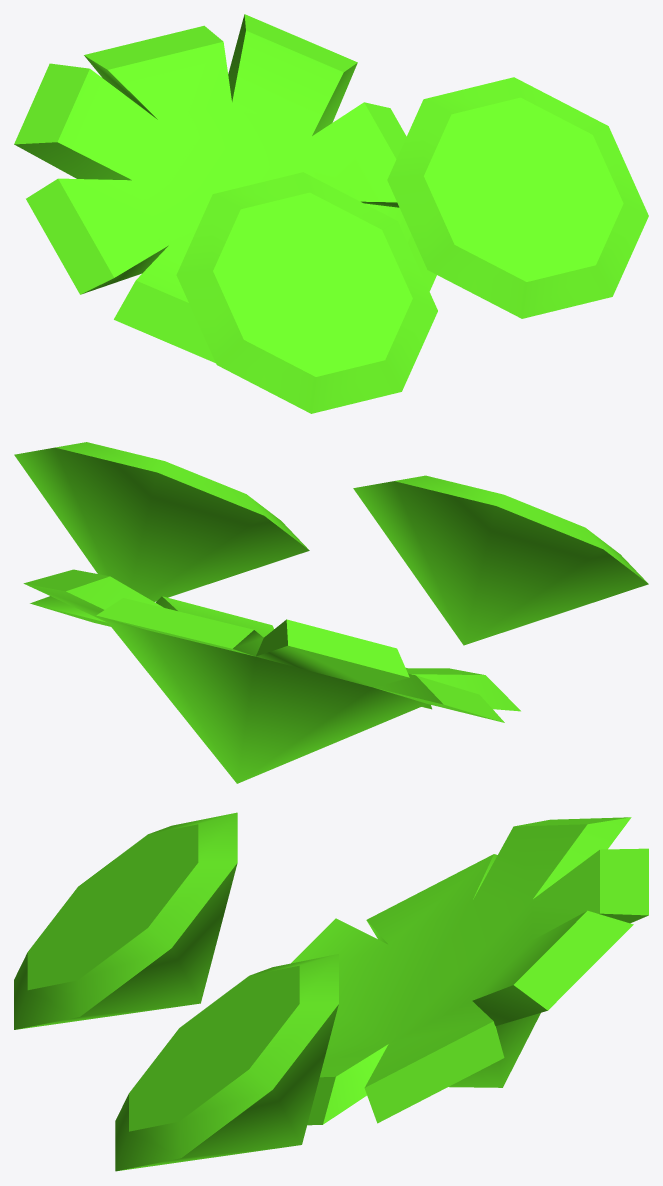
Rendered from SM_Flower_15.FBX.
The picture shows the model from 3 angles, top to bottom: view 1: azimuth 30°, elevation 25°; view 2: azimuth 150°, elevation 25°; view 3: azimuth 270°, elevation 25°; orthographic projection. The views are drawn at different scales.
Visible parts, largest first — view 1: 15; view 2: 15; view 3: 15.
Boxes of the visible parts, <box> form: 15: <box>14,14,648,413</box>; 15: <box>14,442,648,783</box>; 15: <box>14,812,648,1171</box>.
Bounding box in the file's own units: 2.19 × 0.8716 × 2.2.
